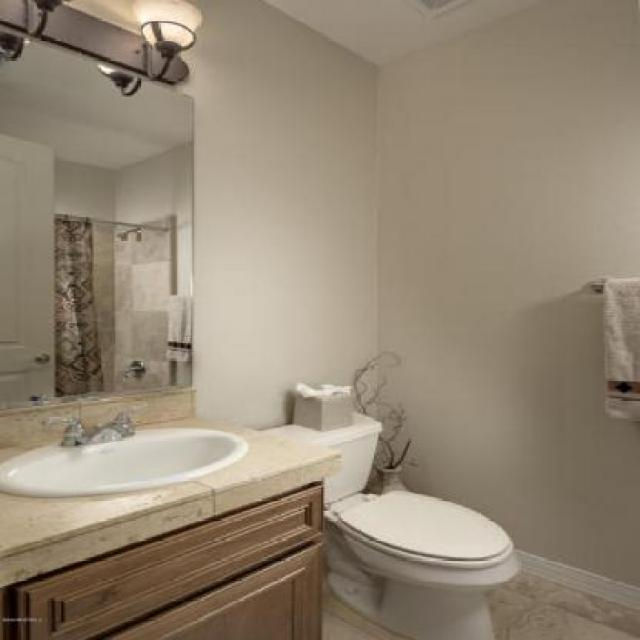Floor: (488, 587, 638, 639), (322, 589, 404, 639)
